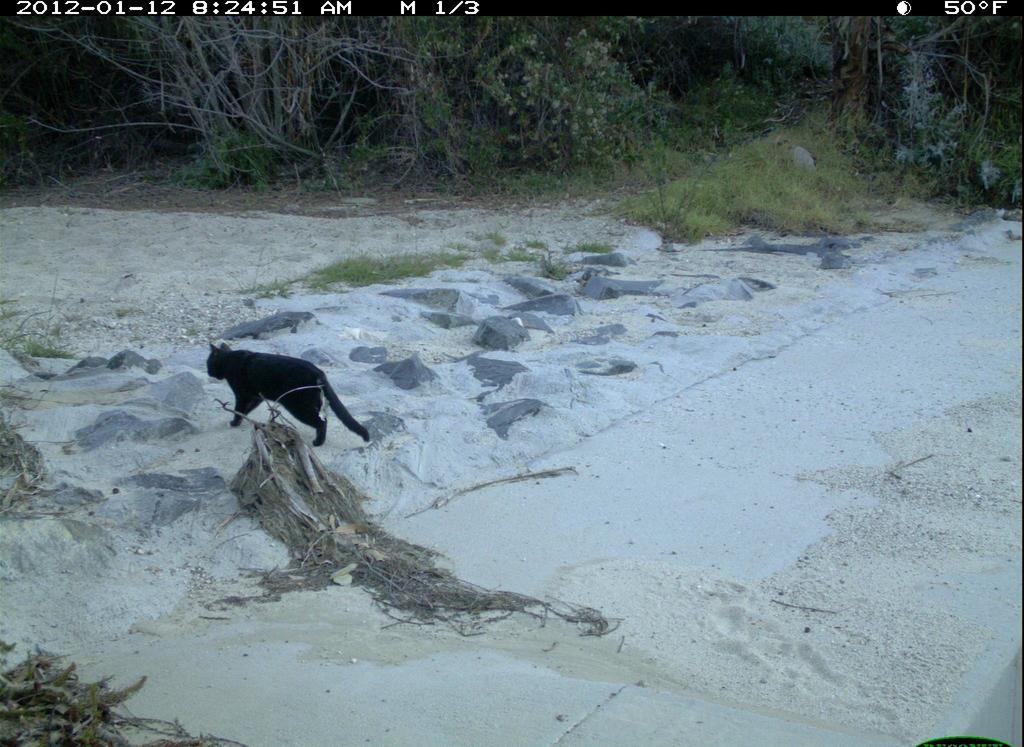cat: (204, 335, 374, 454)
